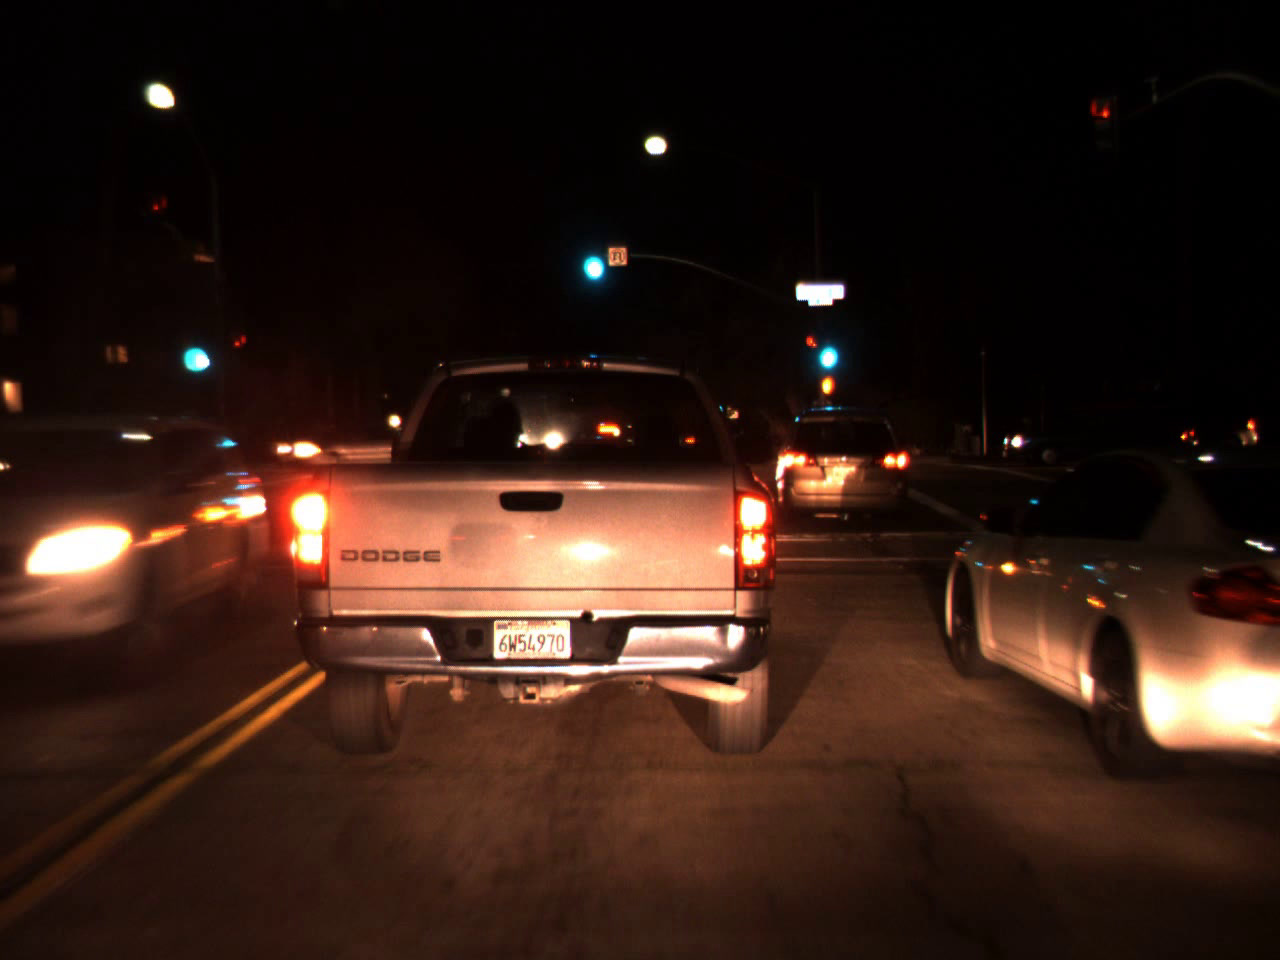go: (574, 226, 610, 289), (174, 320, 211, 377), (811, 318, 841, 378)
